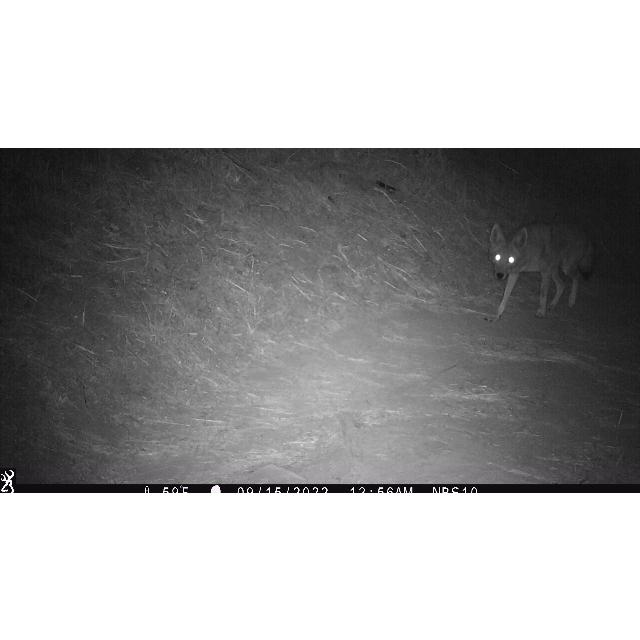animals: (488, 222, 596, 322)
